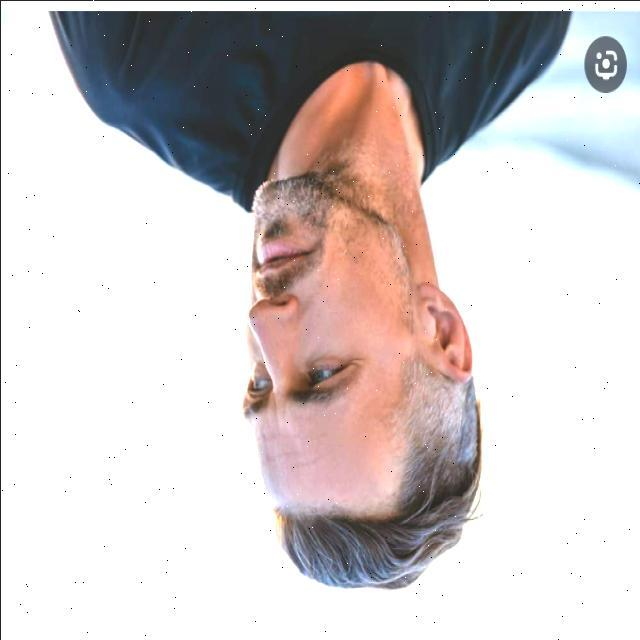face_no_mask: (239, 186, 475, 511)
